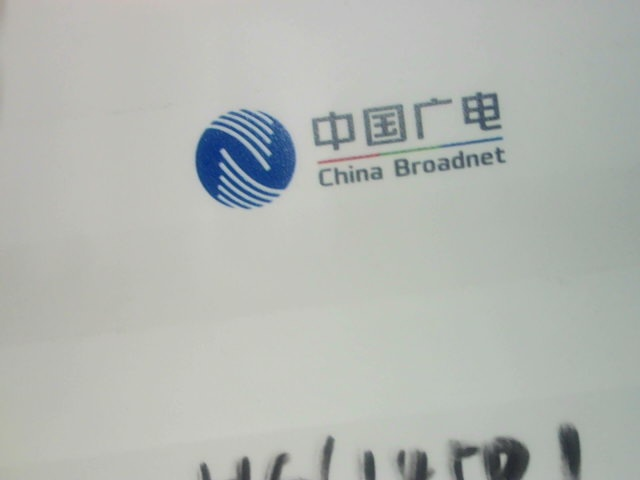AW_ChinaBroadNet: (187, 86, 529, 214)
